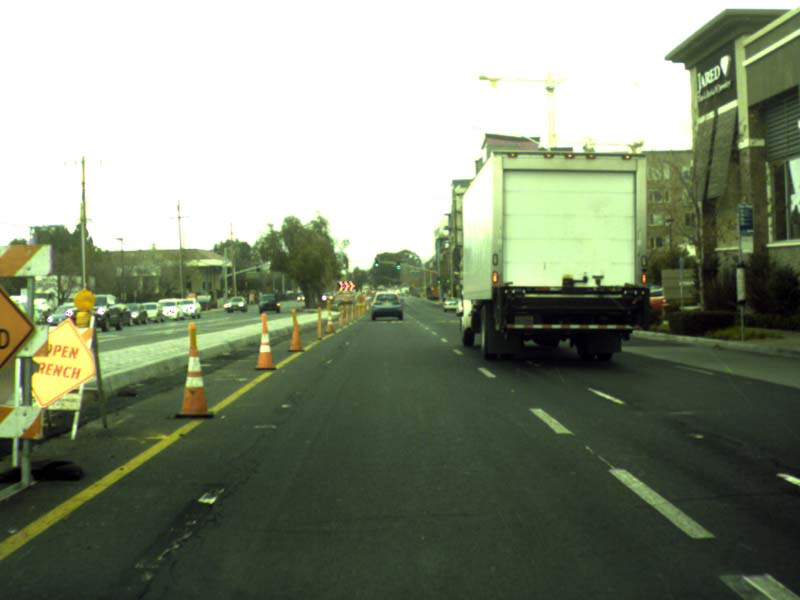Green: (445, 276, 450, 286), (436, 275, 440, 284), (396, 261, 399, 269), (375, 259, 378, 266)
